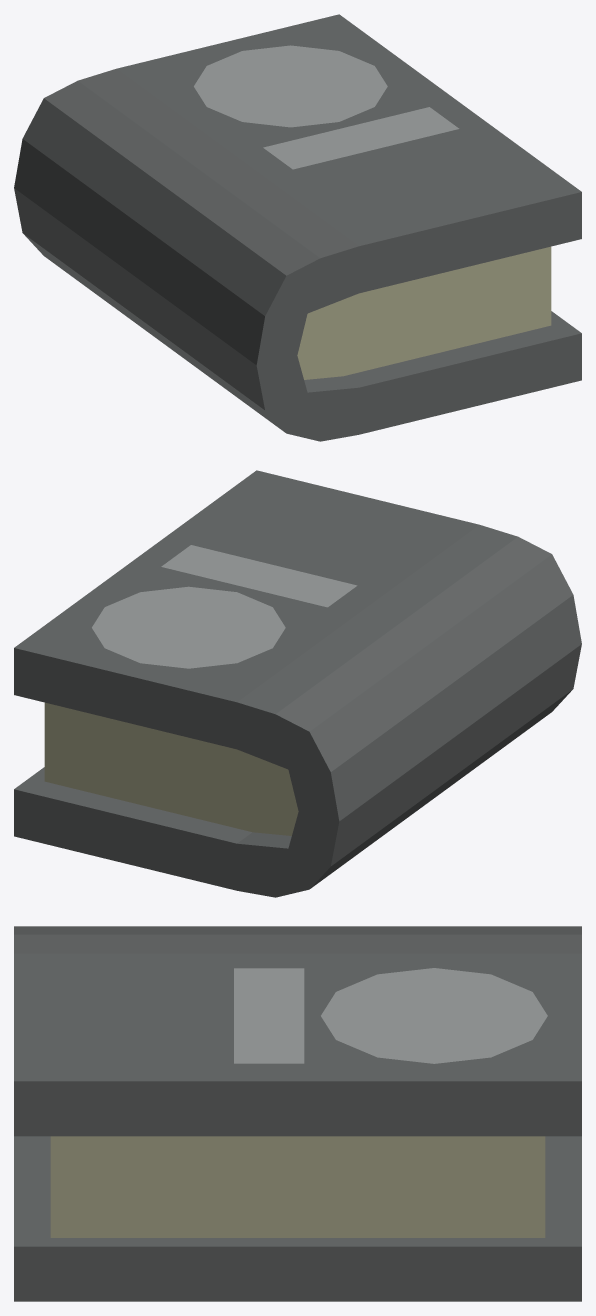
Rendered from Book_4_Gray.fbx.
The picture shows the model from 3 angles, top to bottom: view 1: azimuth 30°, elevation 25°; view 2: azimuth 150°, elevation 25°; view 3: azimuth 270°, elevation 25°; orthographic projection. The views are drawn at different scales.
Visible parts, largest first — view 1: Book_4_Gray_Part_1, Book_4_Gray_Part_2, Book_4_Gray_Part_3; view 2: Book_4_Gray_Part_1, Book_4_Gray_Part_2, Book_4_Gray_Part_3; view 3: Book_4_Gray_Part_1, Book_4_Gray_Part_2, Book_4_Gray_Part_3.
Boxes of the visible parts, box(x1,y1,x2,y2) form: Book_4_Gray_Part_1: box(14, 14, 581, 441); Book_4_Gray_Part_2: box(297, 246, 551, 379); Book_4_Gray_Part_3: box(194, 45, 459, 169); Book_4_Gray_Part_1: box(14, 470, 581, 897); Book_4_Gray_Part_2: box(44, 702, 298, 835); Book_4_Gray_Part_3: box(92, 545, 357, 668); Book_4_Gray_Part_1: box(14, 926, 581, 1301); Book_4_Gray_Part_2: box(50, 1136, 545, 1237); Book_4_Gray_Part_3: box(234, 968, 547, 1063).
Bounding box in the file's own units: 27.09 × 15.1 × 35.
